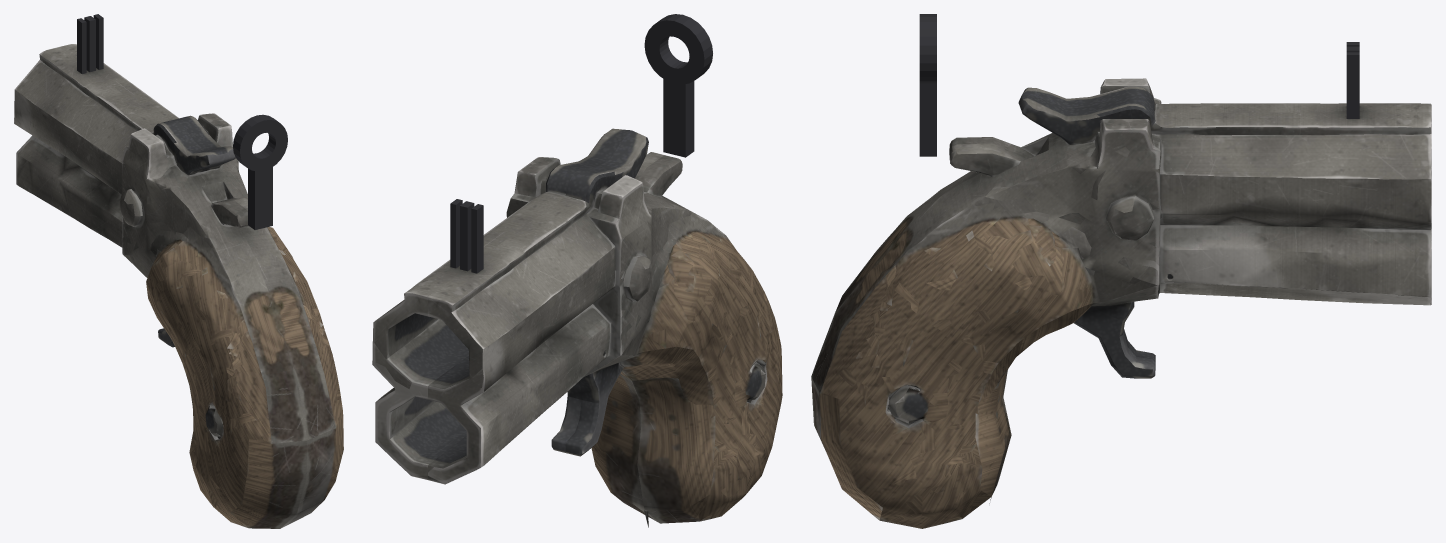
Rendered from derringer.glb.
3 views of the same model, side by side, from view 1: azimuth 30°, elevation 25°; view 2: azimuth 150°, elevation 25°; view 3: azimuth 270°, elevation 25° (orthographic). The views are drawn at different scales.
Visible parts, largest first — view 1: derringer_world, rear_ring, rear_stem, front_post, front_ear-1, front_ear1; view 2: derringer_world, rear_ring, rear_stem, front_ear-1, front_post, front_ear1; view 3: derringer_world, rear_stem, rear_ring, front_ear1.
Boxes of the visible parts, x1,y1,x2,y2 form: derringer_world: [14, 44, 343, 528]; rear_ring: [233, 114, 287, 170]; rear_stem: [248, 163, 272, 229]; front_post: [84, 16, 95, 72]; front_ear-1: [77, 18, 86, 73]; front_ear1: [93, 14, 103, 69]; derringer_world: [372, 128, 782, 527]; rear_ring: [644, 14, 712, 84]; rear_stem: [663, 74, 694, 157]; front_ear-1: [471, 204, 483, 273]; front_post: [460, 201, 474, 271]; front_ear1: [450, 199, 462, 268]; derringer_world: [811, 78, 1431, 528]; rear_stem: [919, 83, 936, 156]; rear_ring: [919, 14, 936, 83]; front_ear1: [1346, 52, 1359, 118].
Bounding box in the file's own units: 0.0482 × 0.1436 × 0.1606.
Materials: 2 (1 with a texture image).
